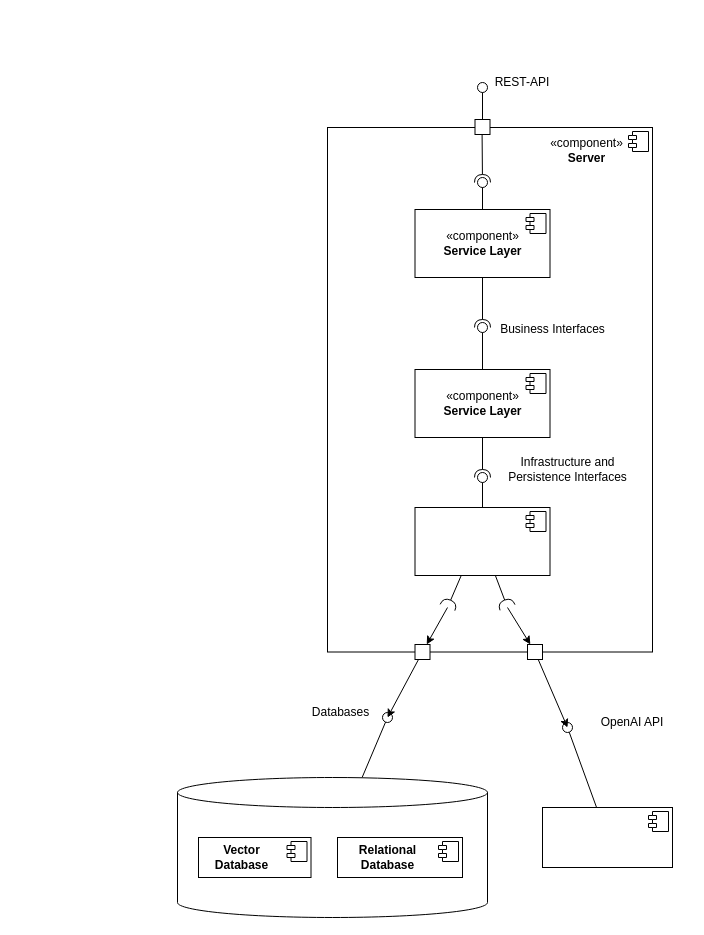
Image size: 704x935. Some labels were removed from this diagram. The centre of each missing label's shape, as x and y in pixels:
"«component» Infrastructure Layer" goes at (x=482, y=541).
"«component» LLM" goes at (x=607, y=837).
